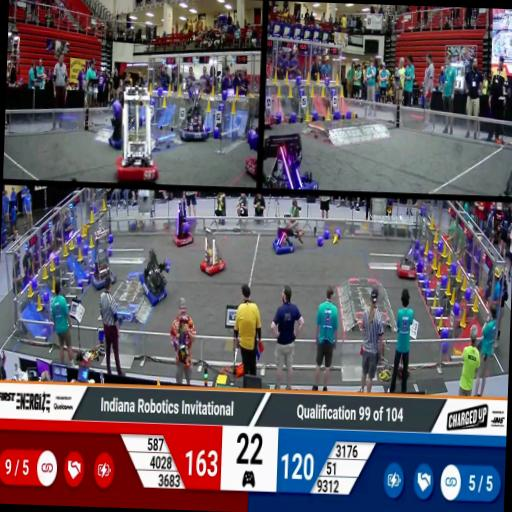robot: (116, 82, 164, 182), (178, 83, 214, 142), (87, 228, 120, 286), (108, 96, 143, 150), (138, 251, 170, 303), (200, 228, 227, 278), (269, 224, 305, 255), (172, 200, 194, 246), (398, 238, 420, 280)
